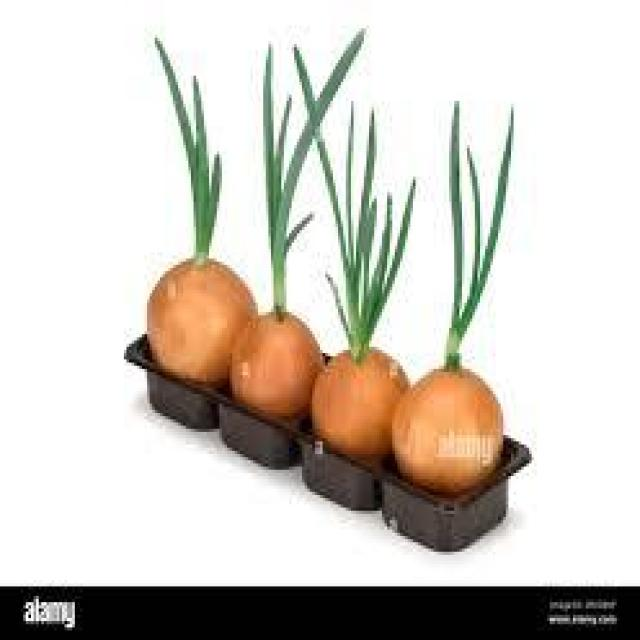Onion: (290, 44, 406, 344), (246, 33, 373, 307), (138, 28, 249, 272), (427, 90, 512, 373)
